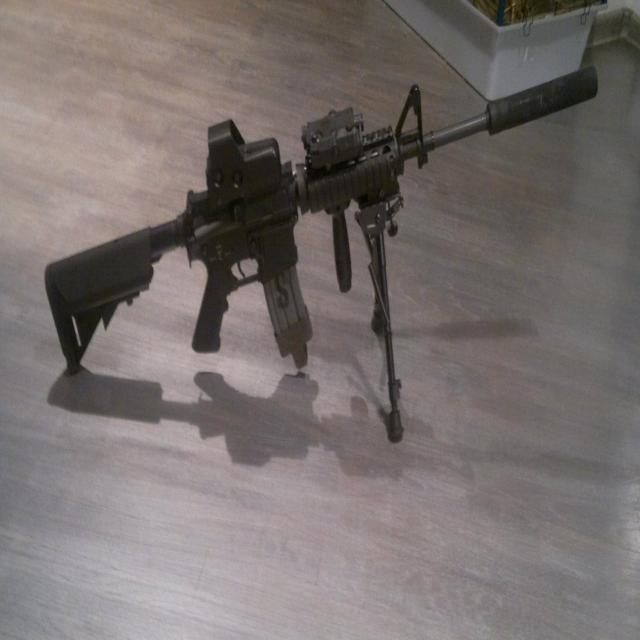firearm: (45, 65, 599, 376)
